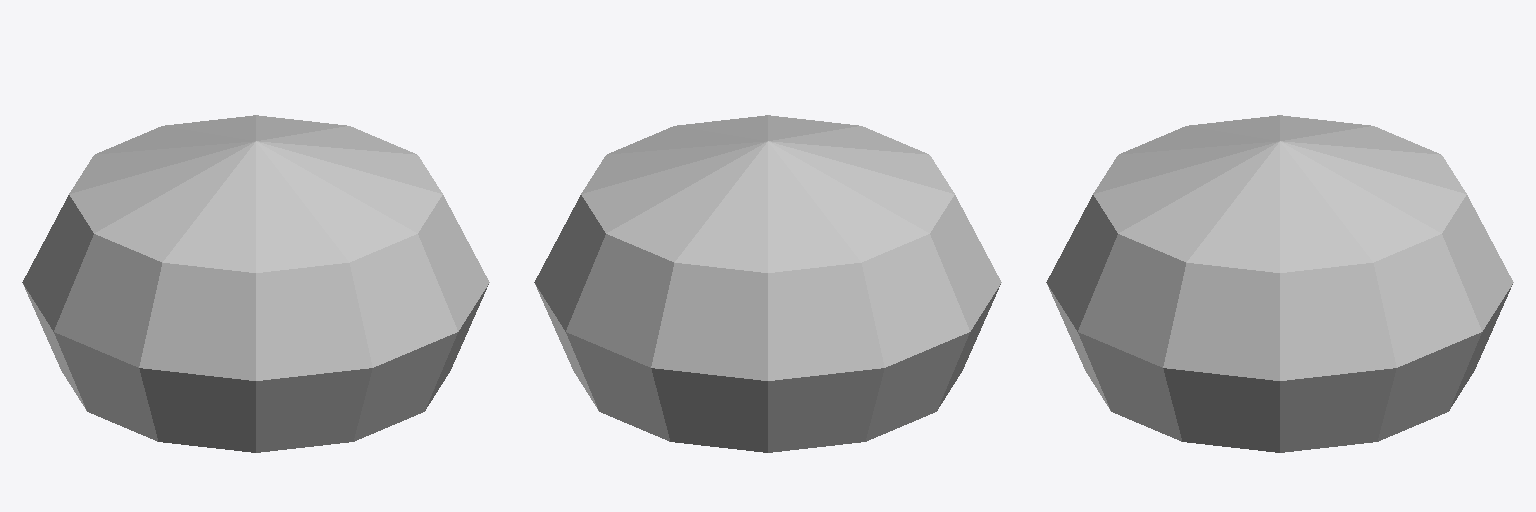
Rendered from burgerC.obj.
The picture shows the model from 3 angles: view 1: azimuth 30°, elevation 25°; view 2: azimuth 150°, elevation 25°; view 3: azimuth 270°, elevation 25°; orthographic projection.
Visible parts, largest first — view 1: Circle.006_Circle; view 2: Circle.006_Circle; view 3: Circle.006_Circle.
Boxes of the visible parts, x1,y1,x2,y2 form: Circle.006_Circle: [22, 115, 489, 452]; Circle.006_Circle: [534, 115, 1001, 452]; Circle.006_Circle: [1046, 115, 1513, 452].
Size of the model in its own units: 2.4 by 1.3 by 2.4.